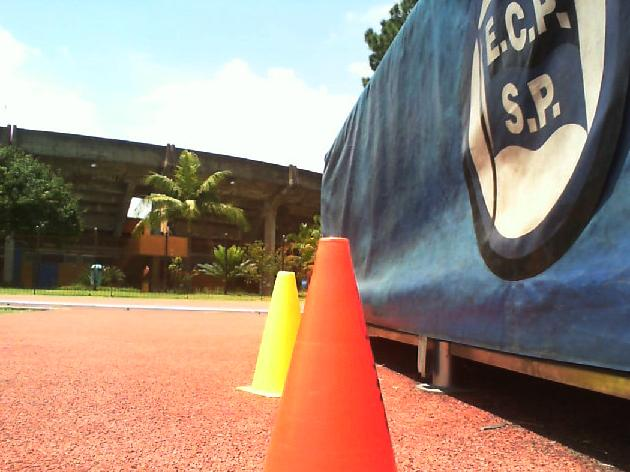0 cone: (262, 237, 398, 472), (234, 271, 302, 398)
